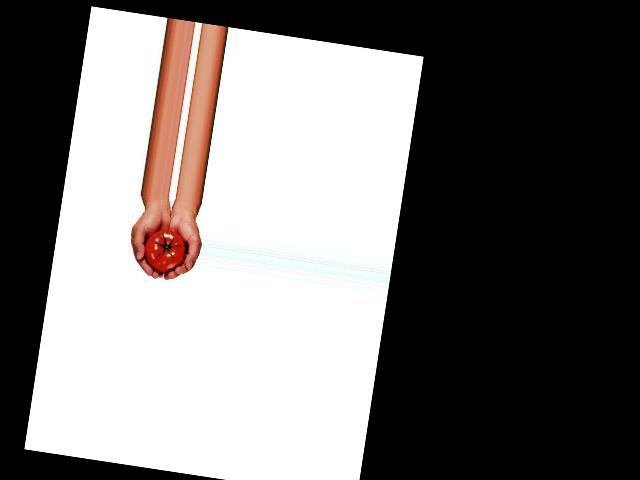tomato: (141, 227, 187, 274)
